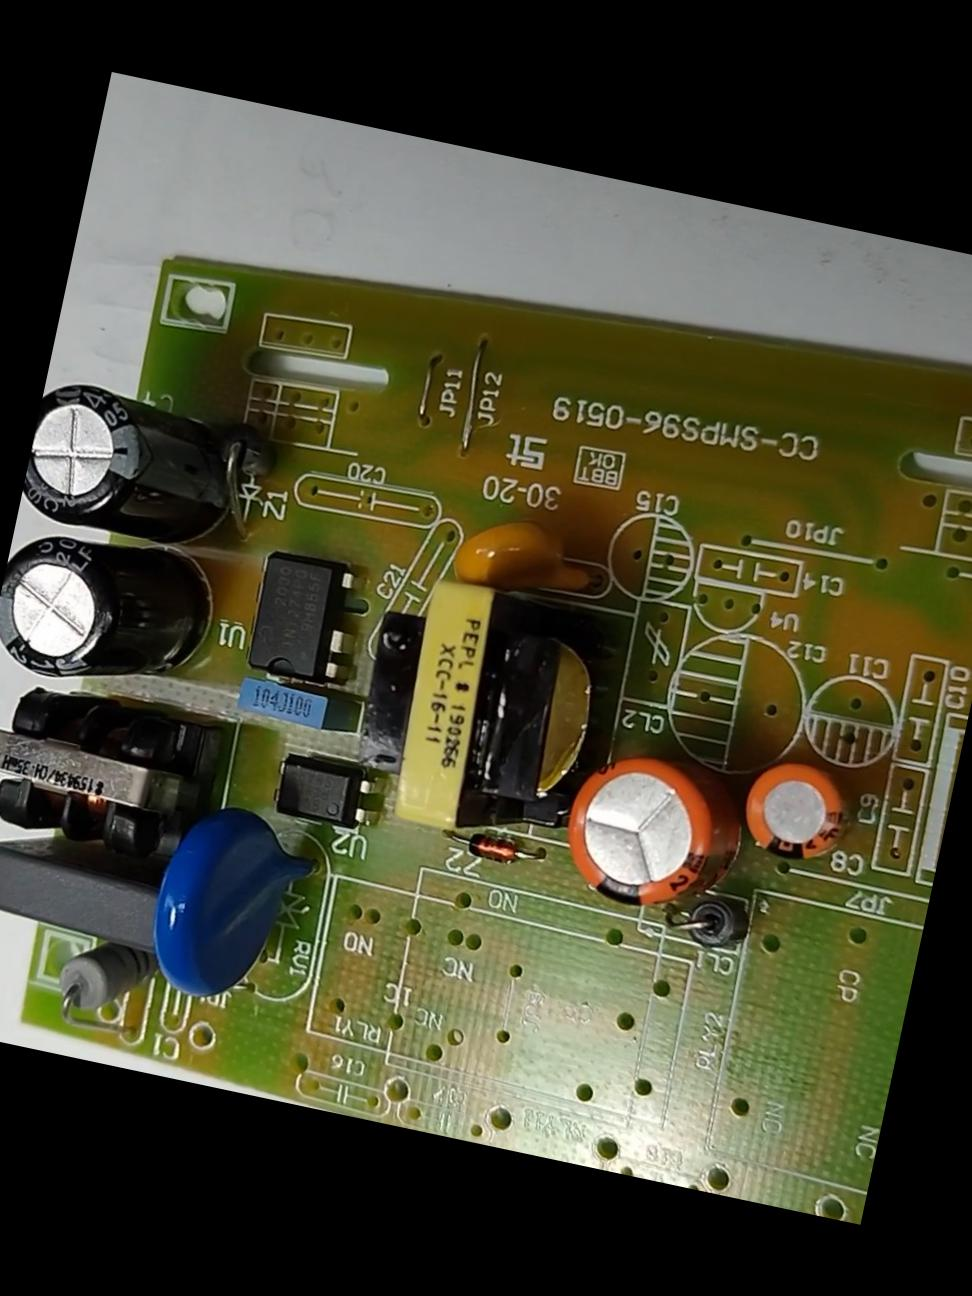Cap1: (549, 736, 739, 919)
Cap2: (734, 748, 858, 869)
Cap3: (0, 512, 227, 713)
Cap4: (18, 375, 246, 554)
MOSFET: (237, 547, 362, 688)
Mov: (137, 795, 319, 1017)
Resistor: (49, 939, 145, 1027)
Transformer: (338, 565, 622, 857), (0, 672, 216, 876)
